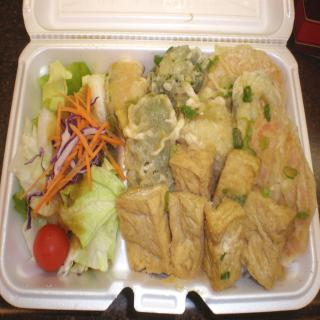tomato: (30, 220, 67, 272)
